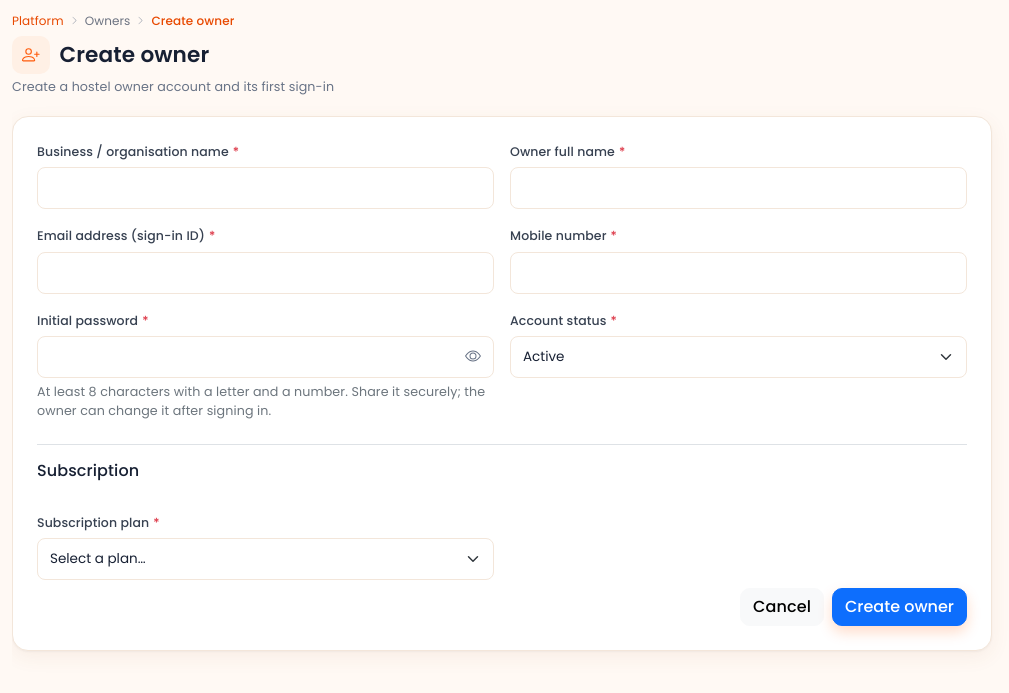
Scenario: an owner cannot be created without choosing a plan
Type "Sunrise PG" into the field labelled "Business / organisation name*".
click(266, 188); type("Sunrise PG")  # box x1=37 y1=167 x2=494 y2=209
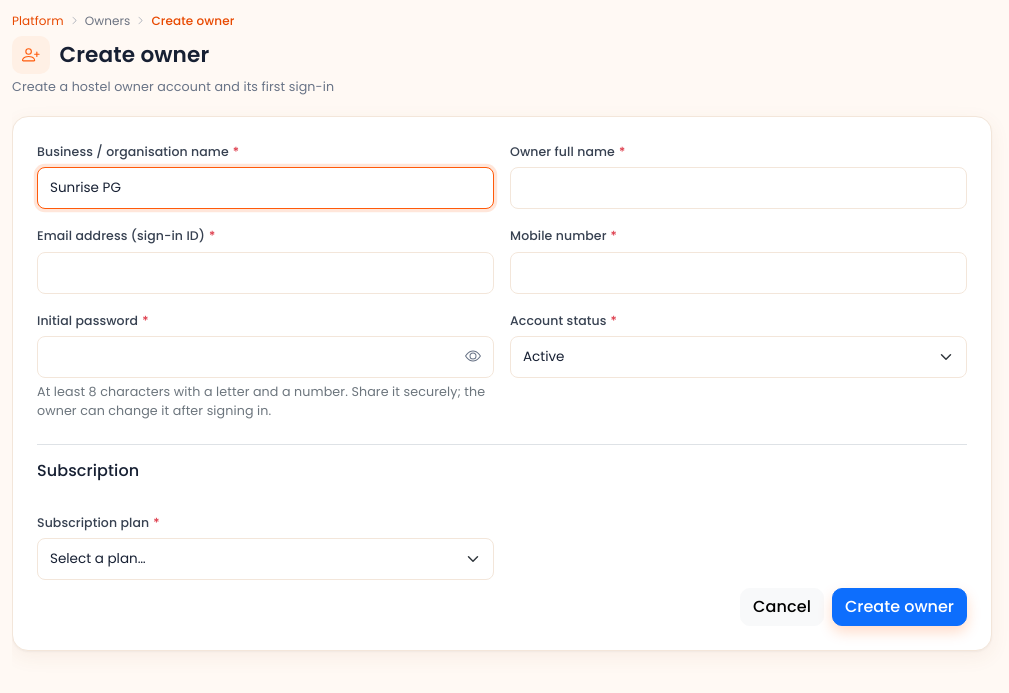
Type "Ravi Kumar" into the field labelled "Owner full name*".
click(738, 188); type("Ravi Kumar")  # box x1=510 y1=167 x2=967 y2=209
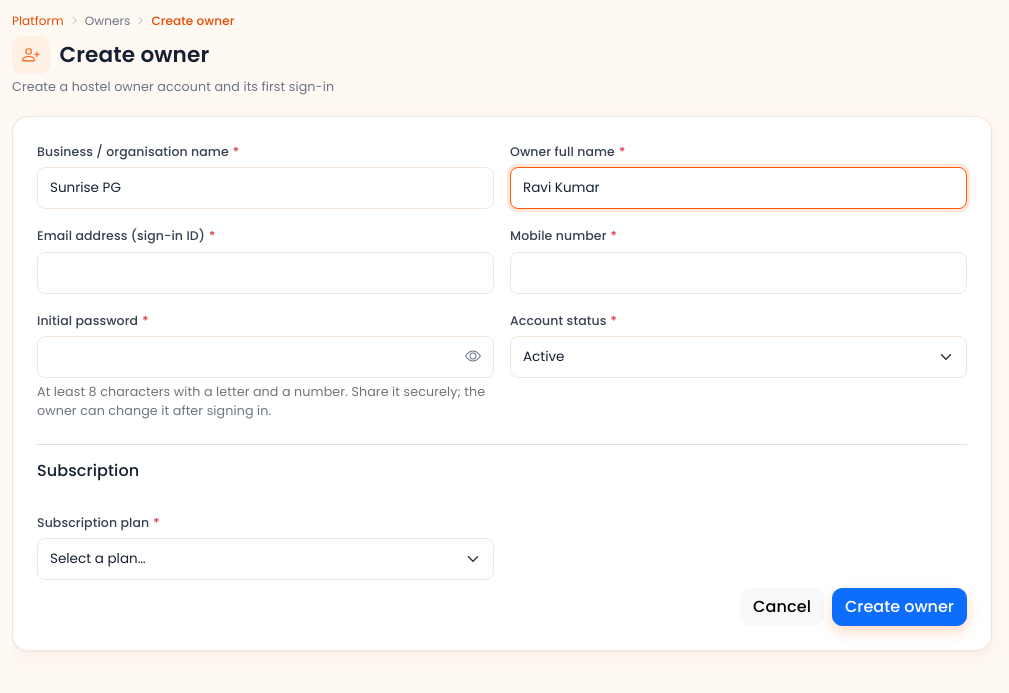
Type "ravi@example.com" into the field labelled "Email address (sign-in ID)*".
click(266, 272); type("ravi@example.com")  # box x1=37 y1=252 x2=494 y2=294
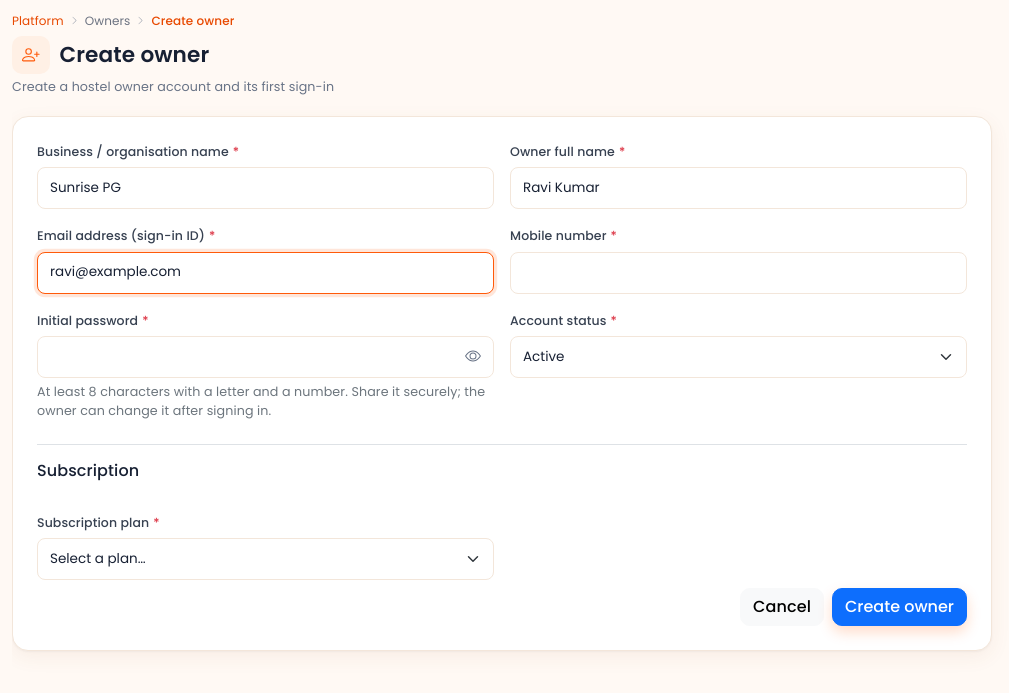
Type "9876543210" into the field labelled "Mobile number*".
click(738, 272); type("9876543210")  # box x1=510 y1=252 x2=967 y2=294
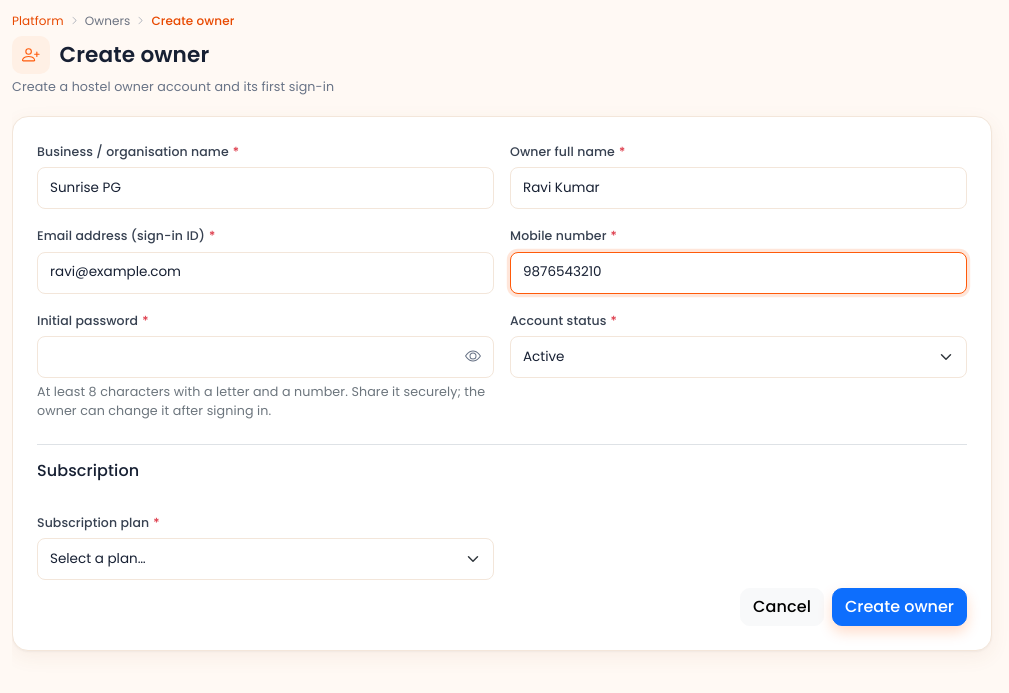
Type "Passw0rd1x" into the password field labelled "Initial password*".
click(266, 357); type("Passw0rd1x")  # box x1=37 y1=336 x2=494 y2=378
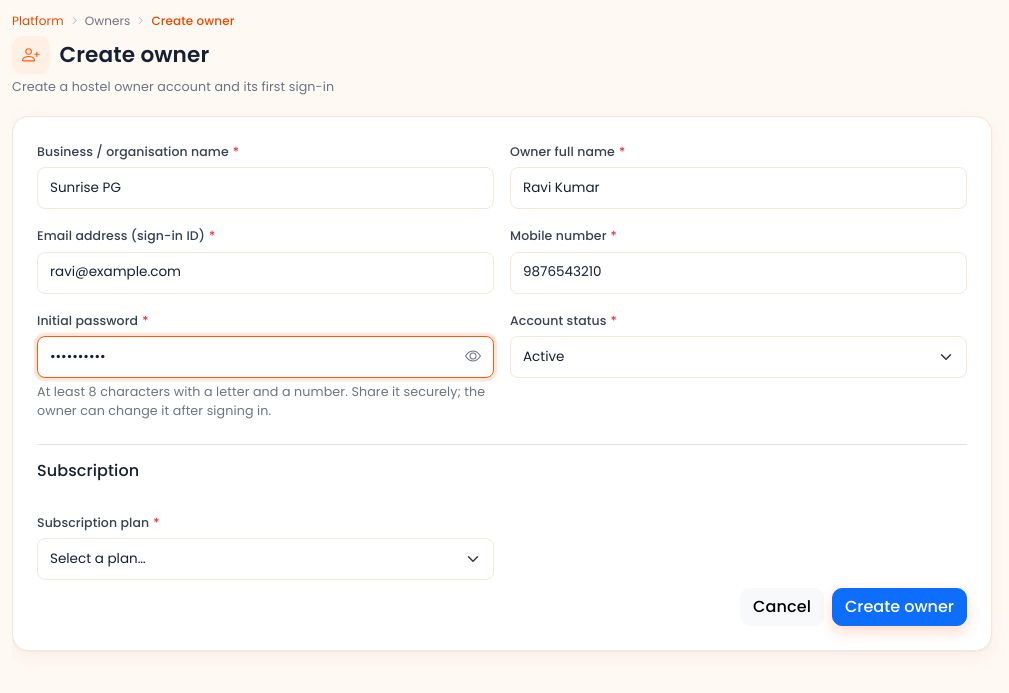
Click the button "Create owner".
click(900, 607)  # box x1=832 y1=588 x2=967 y2=626
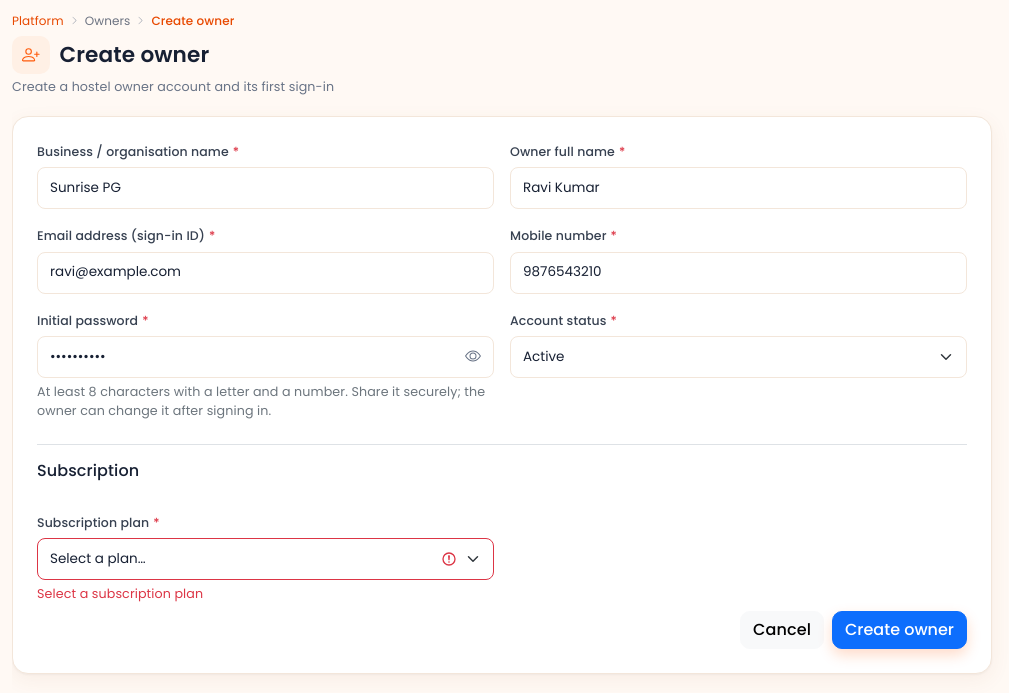
Now the text "Select a subscription plan" is shown, box x1=37 y1=585 x2=203 y2=602
